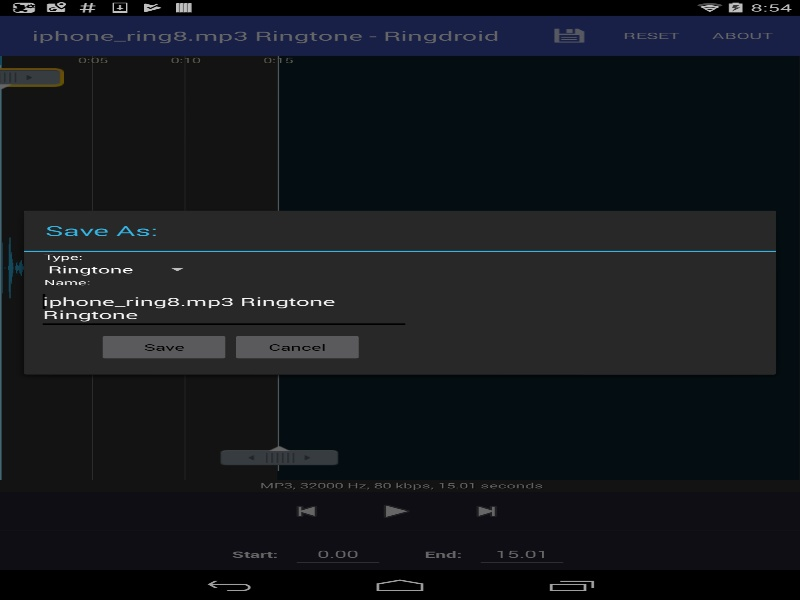Button: (230, 332, 364, 362), (97, 332, 230, 362)
Input: (37, 287, 410, 329)
